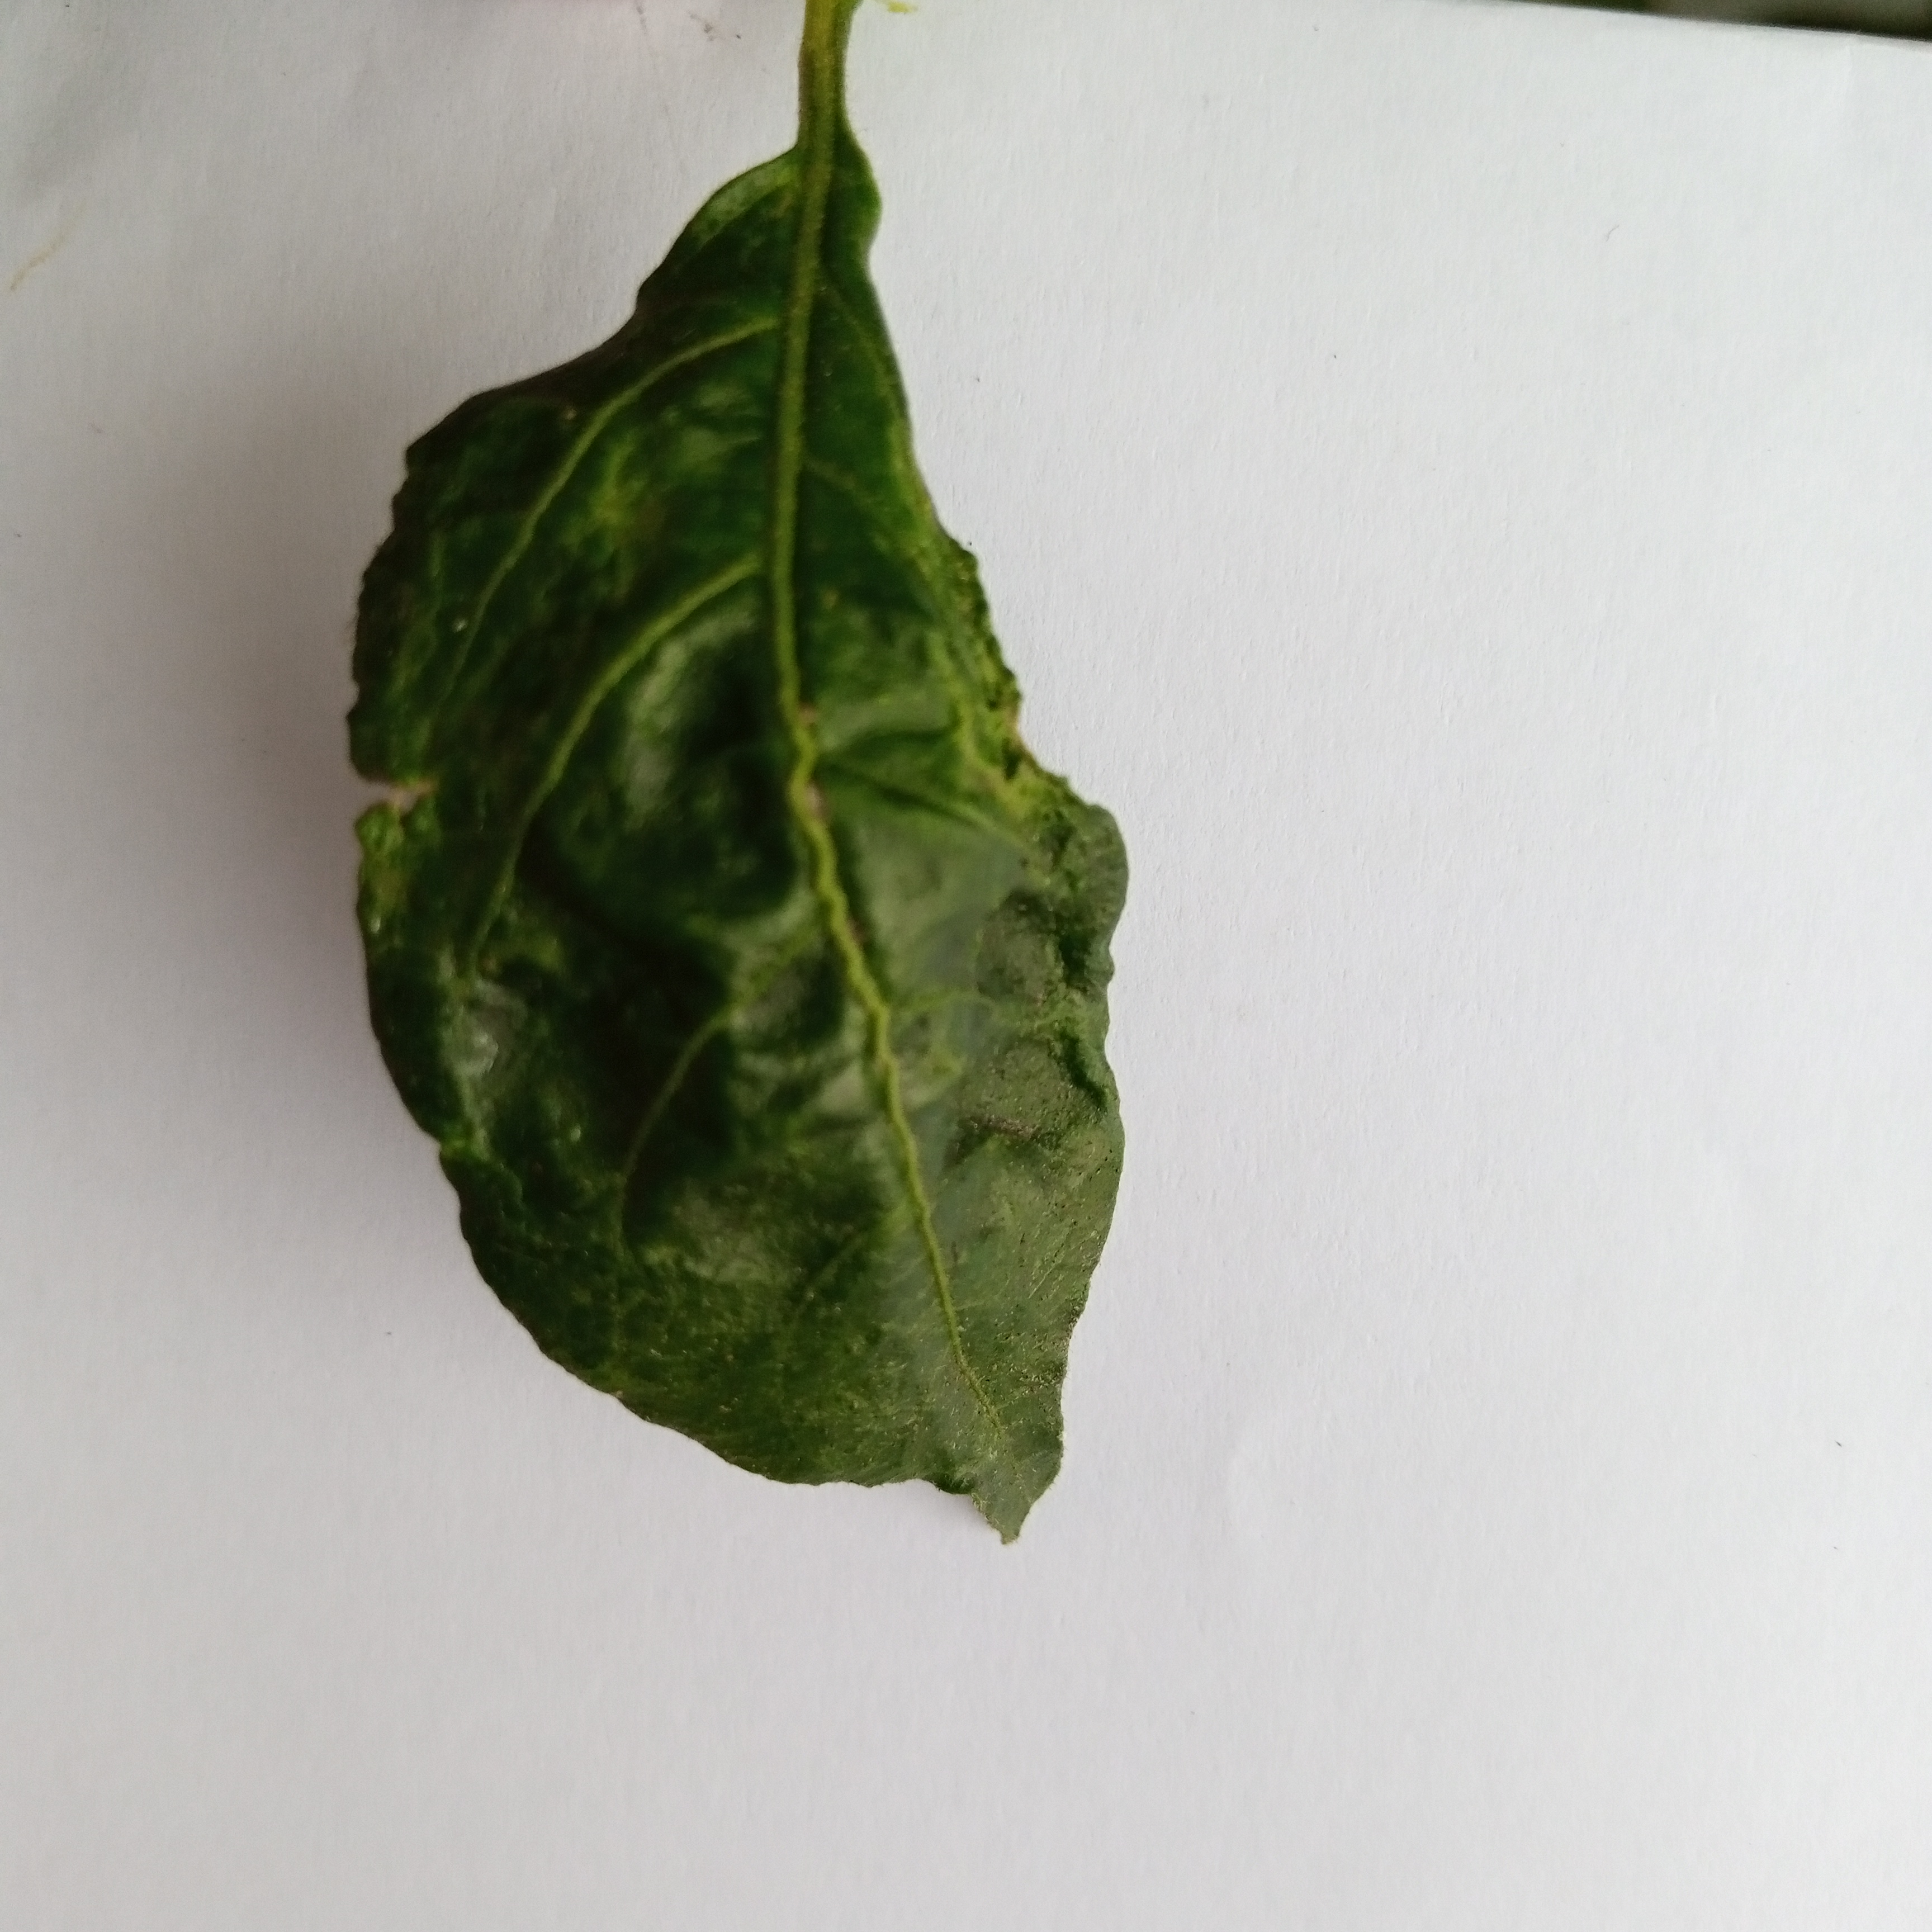Leaf: (225, 127, 1254, 1614)
